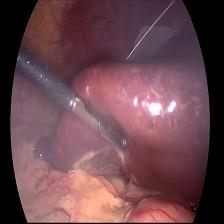Grasper: (67, 83, 135, 162)
Specimen Bag: (122, 20, 176, 68)
